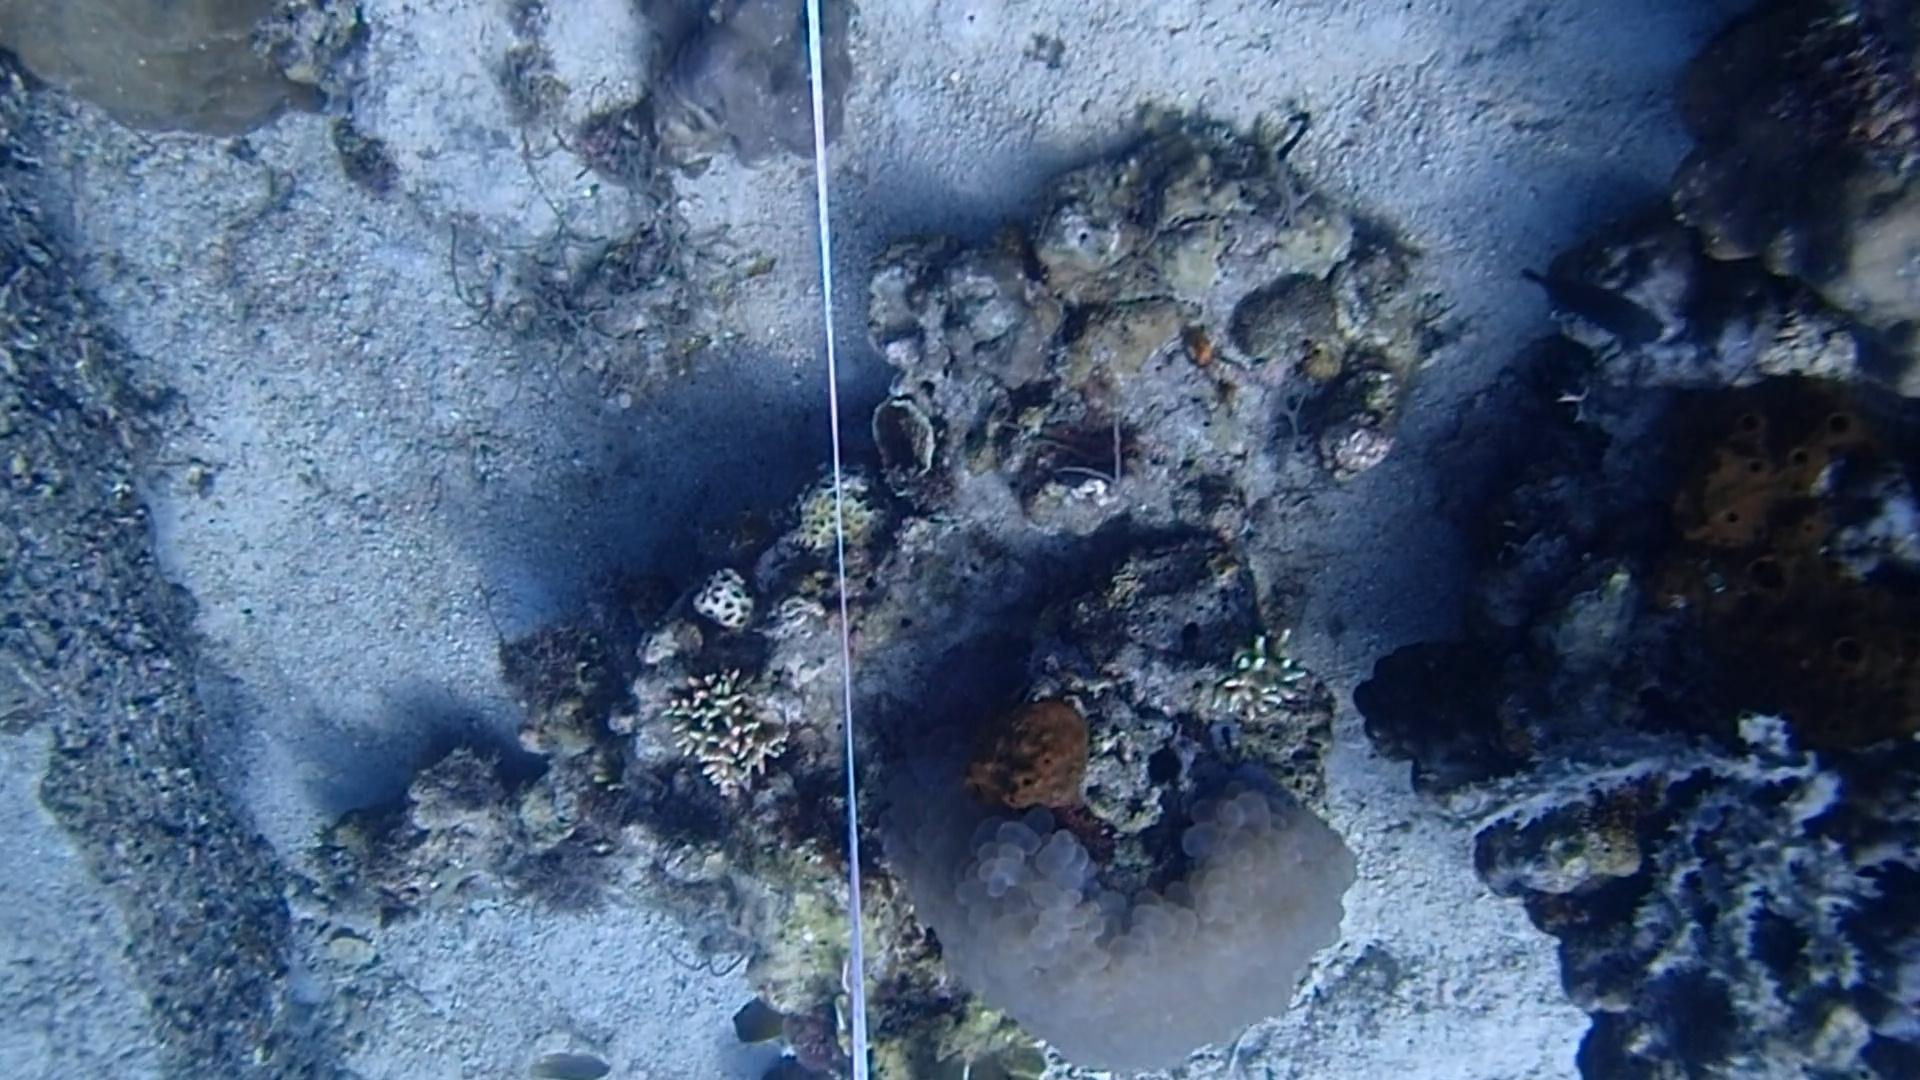Big Dark Blue Fish: (1526, 256, 1687, 367)
